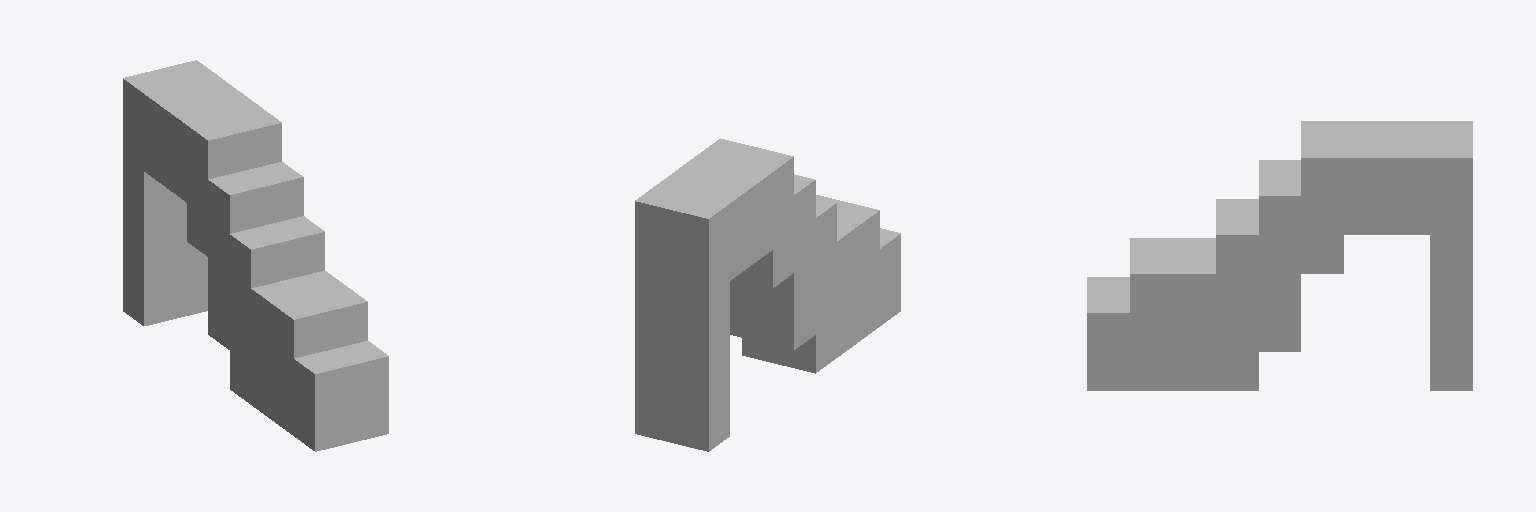
File: Shoe_05.obj
3 views of the same model, side by side, from view 1: azimuth 30°, elevation 25°; view 2: azimuth 150°, elevation 25°; view 3: azimuth 270°, elevation 25° (orthographic).
Parts seen in each view (by area): view 1: Shoe_05; view 2: Shoe_05; view 3: Shoe_05.
Part boxes in pixels (x1,y1,x2,y2): Shoe_05: (123,60,388,451); Shoe_05: (635,138,900,451); Shoe_05: (1087,121,1472,390).
Size of the model in its own units: 0.2 by 0.6 by 0.9.